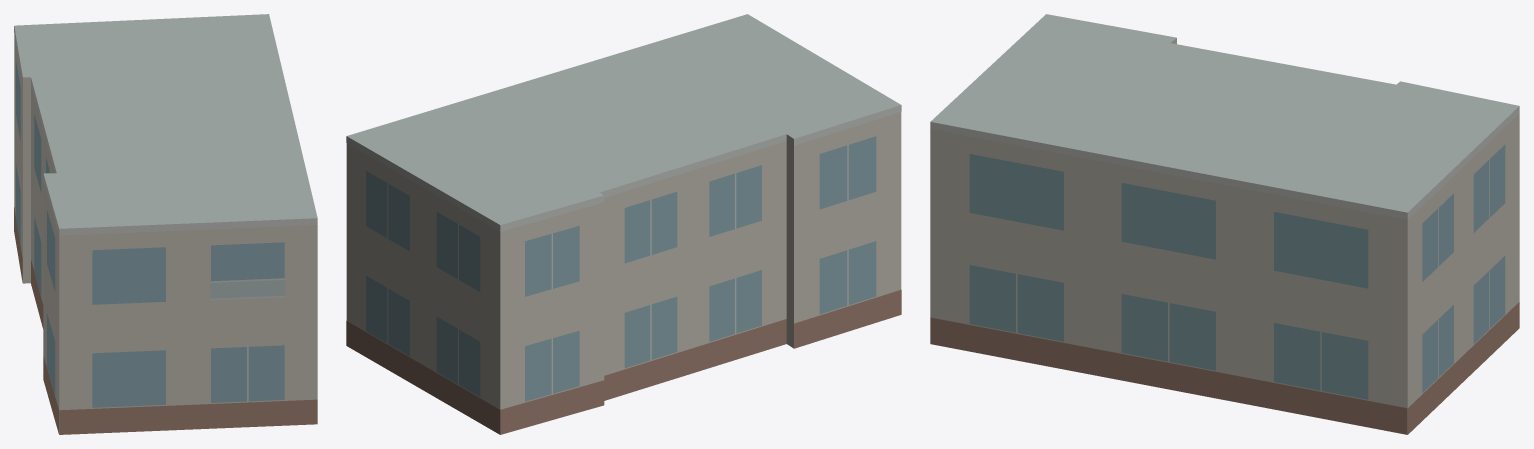
Rendered from survey-upis-32640822.glb.
The picture shows the model from 3 angles, left to right: view 1: azimuth 30°, elevation 25°; view 2: azimuth 150°, elevation 25°; view 3: azimuth 270°, elevation 25°; orthographic projection. The views are drawn at different scales.
Visible parts, largest first — view 1: survey-upis-32640822.tmp; view 2: survey-upis-32640822.tmp; view 3: survey-upis-32640822.tmp.
Part boxes in pixels (x1=…): survey-upis-32640822.tmp: x1=14, y1=14, x2=317, y2=434; survey-upis-32640822.tmp: x1=346, y1=14, x2=901, y2=434; survey-upis-32640822.tmp: x1=930, y1=14, x2=1519, y2=434.
Size of the model in its own units: 14.39 by 7.5 by 18.03.
